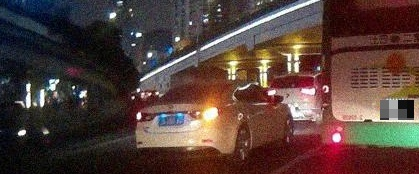L_light: (135, 110, 156, 123)
R_light: (189, 105, 223, 120)
T_light: (188, 86, 200, 90)
night-right: (134, 79, 232, 171)
plate_1: (380, 100, 414, 120)
